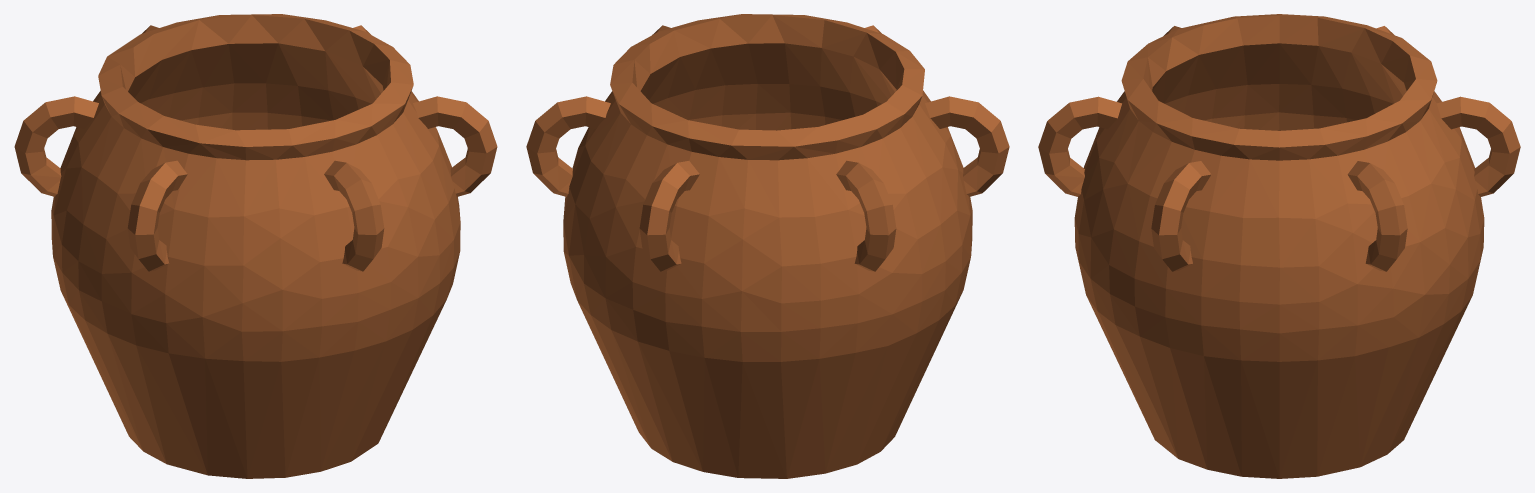
File: Pottery 1_2.fbx
3 views of the same model, side by side, from view 1: azimuth 30°, elevation 25°; view 2: azimuth 150°, elevation 25°; view 3: azimuth 270°, elevation 25° (orthographic).
Parts seen in each view (by area): view 1: Pottery 1_2; view 2: Pottery 1_2; view 3: Pottery 1_2.
Boxes of the visible parts, left/top/right/bottom form: Pottery 1_2: left=14, top=14, right=497, bottom=478; Pottery 1_2: left=526, top=14, right=1009, bottom=478; Pottery 1_2: left=1038, top=14, right=1520, bottom=478.
Bounding box in the file's own units: 90.28 × 83.69 × 104.
